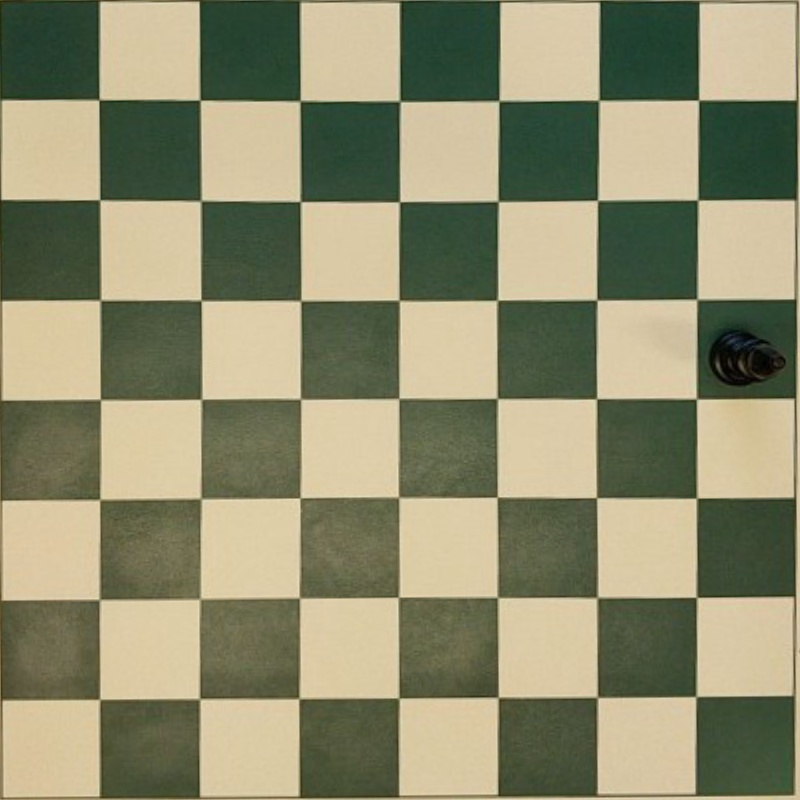black-bishop: (709, 329, 788, 385)
